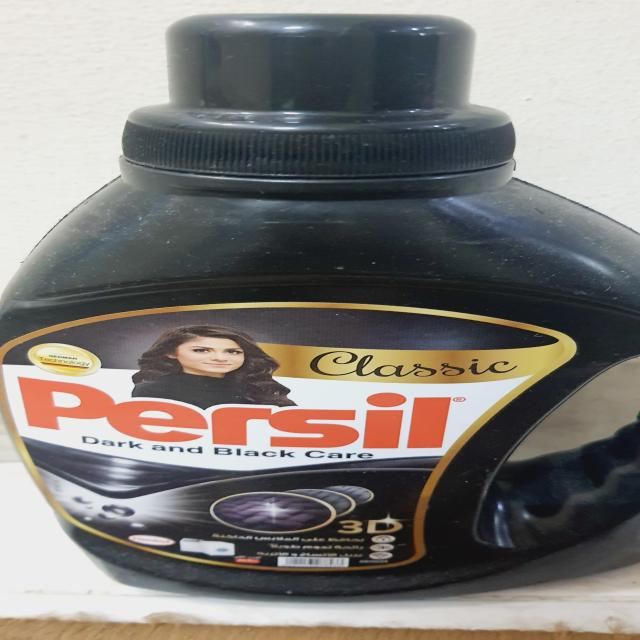plastic: (2, 12, 638, 600)
